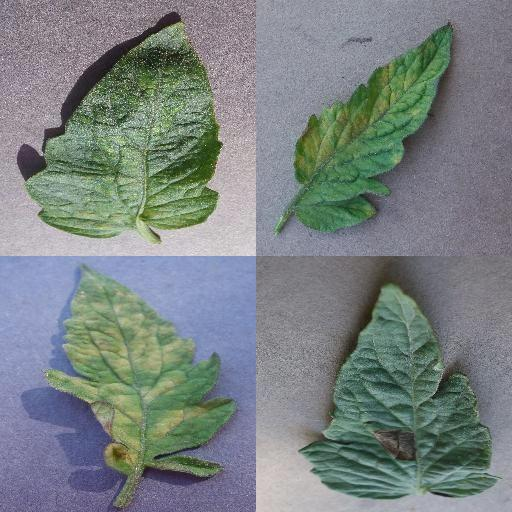Early Blight: (298, 283, 504, 499)
Leaf Mold: (45, 263, 240, 479), (295, 22, 452, 232)
Spider Mites: (25, 18, 218, 238)
